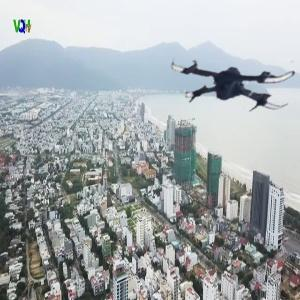drone: (175, 13, 296, 134)
